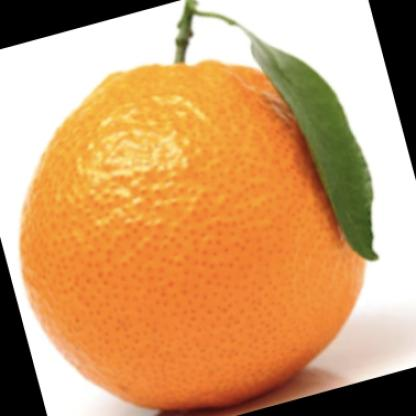fresh: (23, 61, 366, 413)
